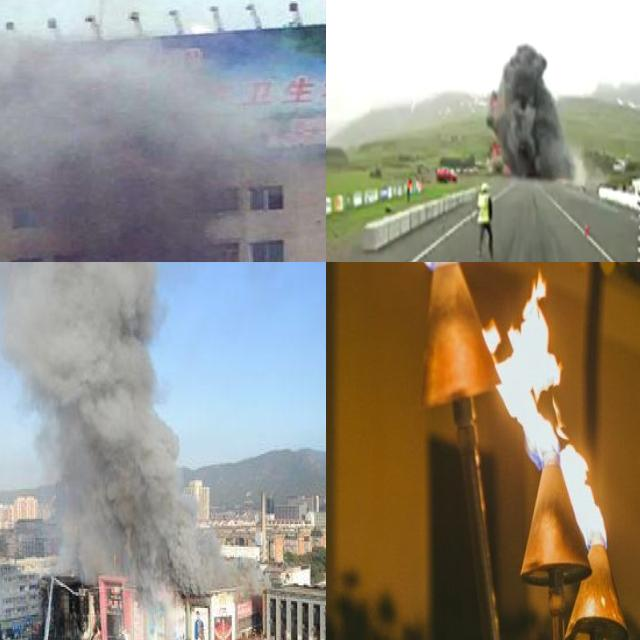fire: (484, 266, 572, 463), (562, 443, 608, 545)
smoke: (0, 262, 250, 596), (0, 39, 249, 262), (492, 43, 562, 173)
